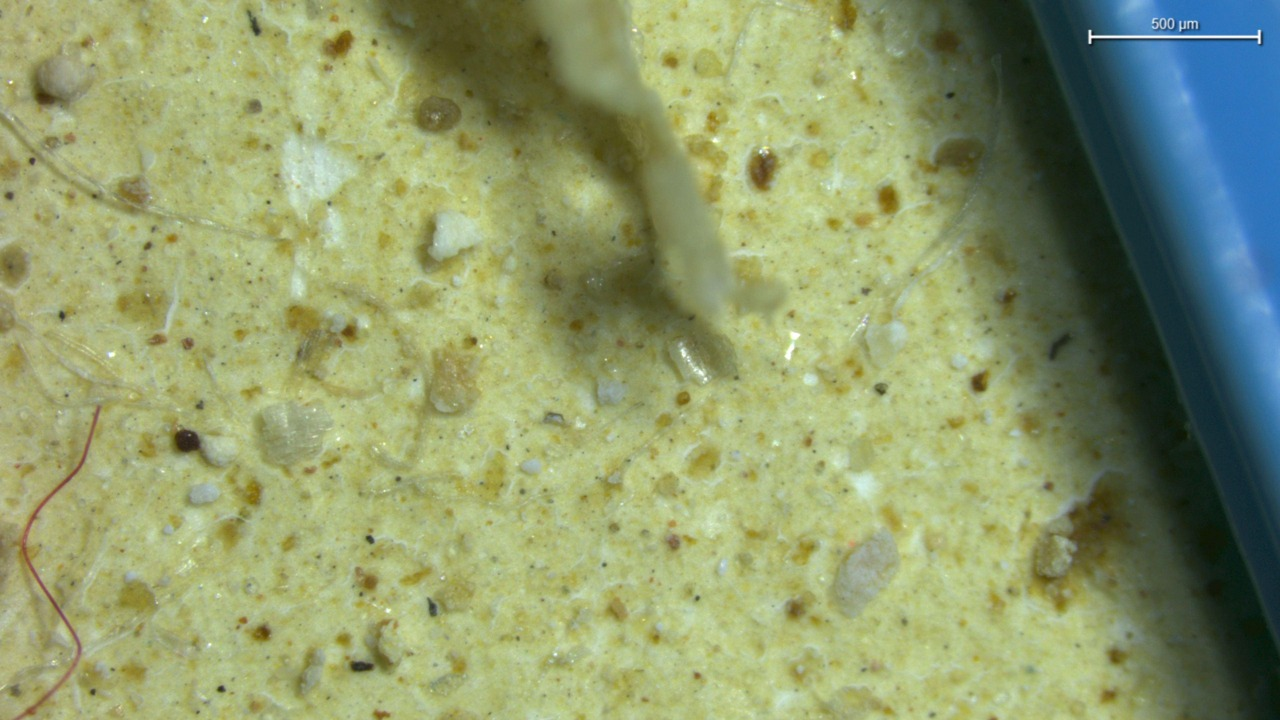microplastic_fragment: (827, 530, 900, 620), (263, 404, 335, 465), (427, 207, 488, 261), (33, 55, 92, 109), (431, 355, 480, 412), (1037, 516, 1076, 580), (201, 437, 237, 468), (597, 374, 629, 407), (190, 484, 220, 502)
